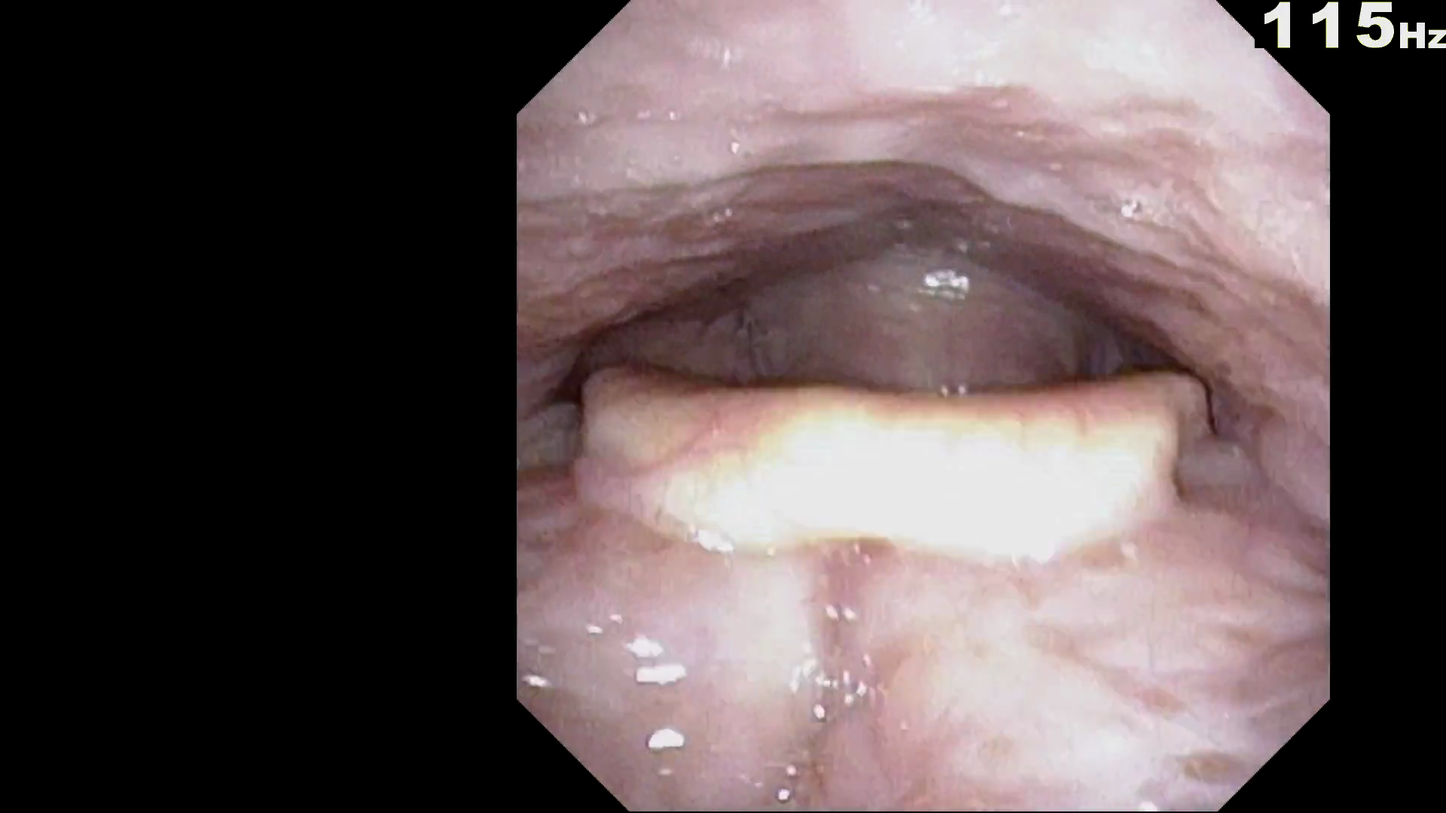epiglottis: (584, 326, 1225, 632)
trachea: (847, 350, 1016, 566)
